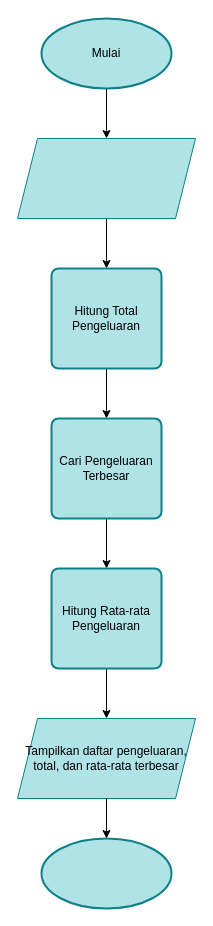
The diagram is 213 pixels wide and 926 high, and some of its shapes have lost their labels. Each missing label, with the box of its shape:
Input Pengeluaran Selama 7 Hari: (16, 138, 196, 218)
Selesai: (40, 837, 172, 909)
